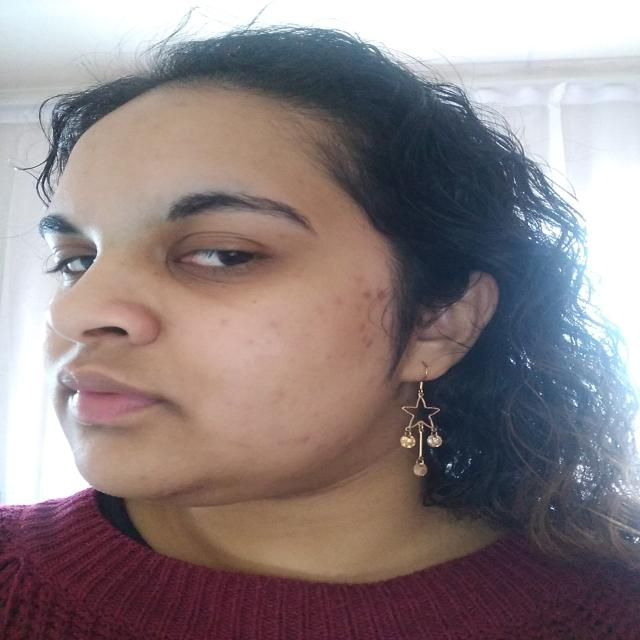Acne: (269, 388, 292, 408), (359, 321, 373, 352), (294, 433, 320, 446), (330, 292, 346, 312), (336, 435, 358, 446), (324, 350, 339, 364), (348, 272, 365, 284), (137, 470, 155, 481), (225, 394, 233, 412), (216, 317, 229, 328), (362, 289, 370, 305), (271, 319, 282, 328), (379, 291, 387, 301)
Eyebags: (162, 258, 282, 296)
